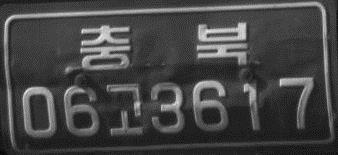0: (21, 84, 59, 139)
1: (239, 77, 269, 137)
3: (148, 79, 186, 135)
6: (191, 77, 231, 135), (63, 81, 101, 138)
7: (276, 74, 320, 134)
고: (104, 80, 143, 140)
충북_D: (79, 18, 250, 74)
